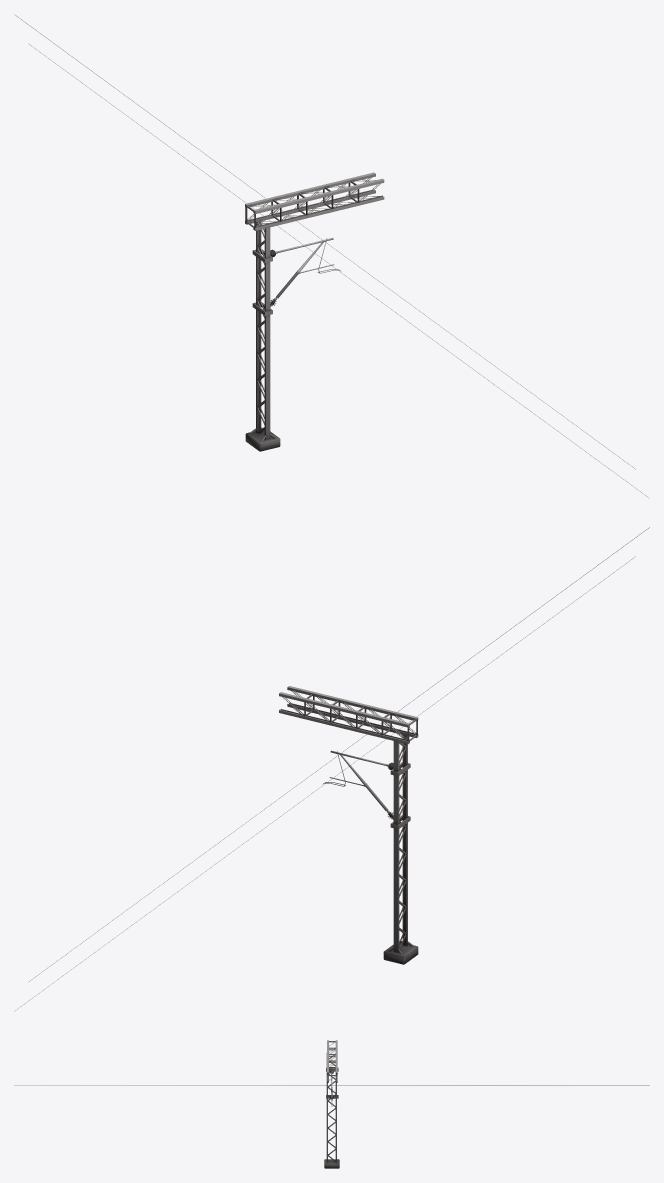
File: SM_Electric_Pole_Wide_pole.FBX
3 views of the same model, one above another, from view 1: azimuth 30°, elevation 25°; view 2: azimuth 150°, elevation 25°; view 3: azimuth 270°, elevation 25° (orthographic). The views are drawn at different scales.
Parts seen in each view (by area): view 1: SM_Electric_Pole_Wide_pole; view 2: SM_Electric_Pole_Wide_pole; view 3: SM_Electric_Pole_Wide_pole.
Part boxes in pixels (x1,y1,x2,y2): SM_Electric_Pole_Wide_pole: [14, 14, 649, 498]; SM_Electric_Pole_Wide_pole: [14, 527, 649, 1011]; SM_Electric_Pole_Wide_pole: [14, 1040, 649, 1168].
Bounding box in the file's own units: 599 × 5000 × 1063.
